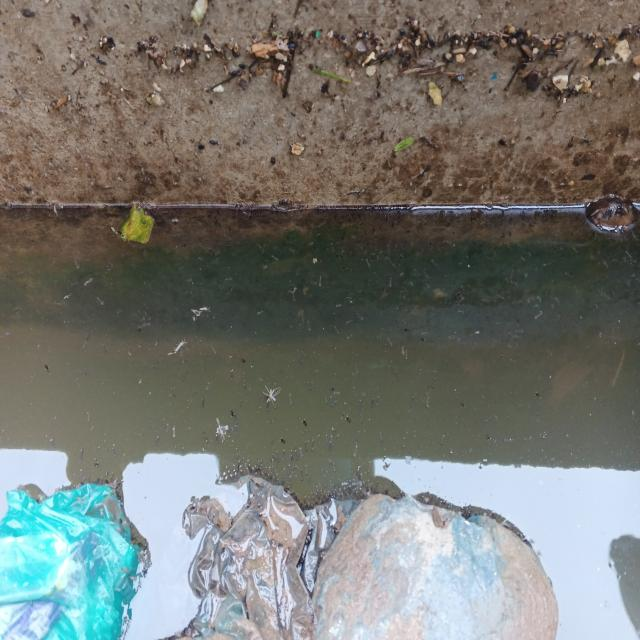Breeding Place: (0, 206, 640, 640)
